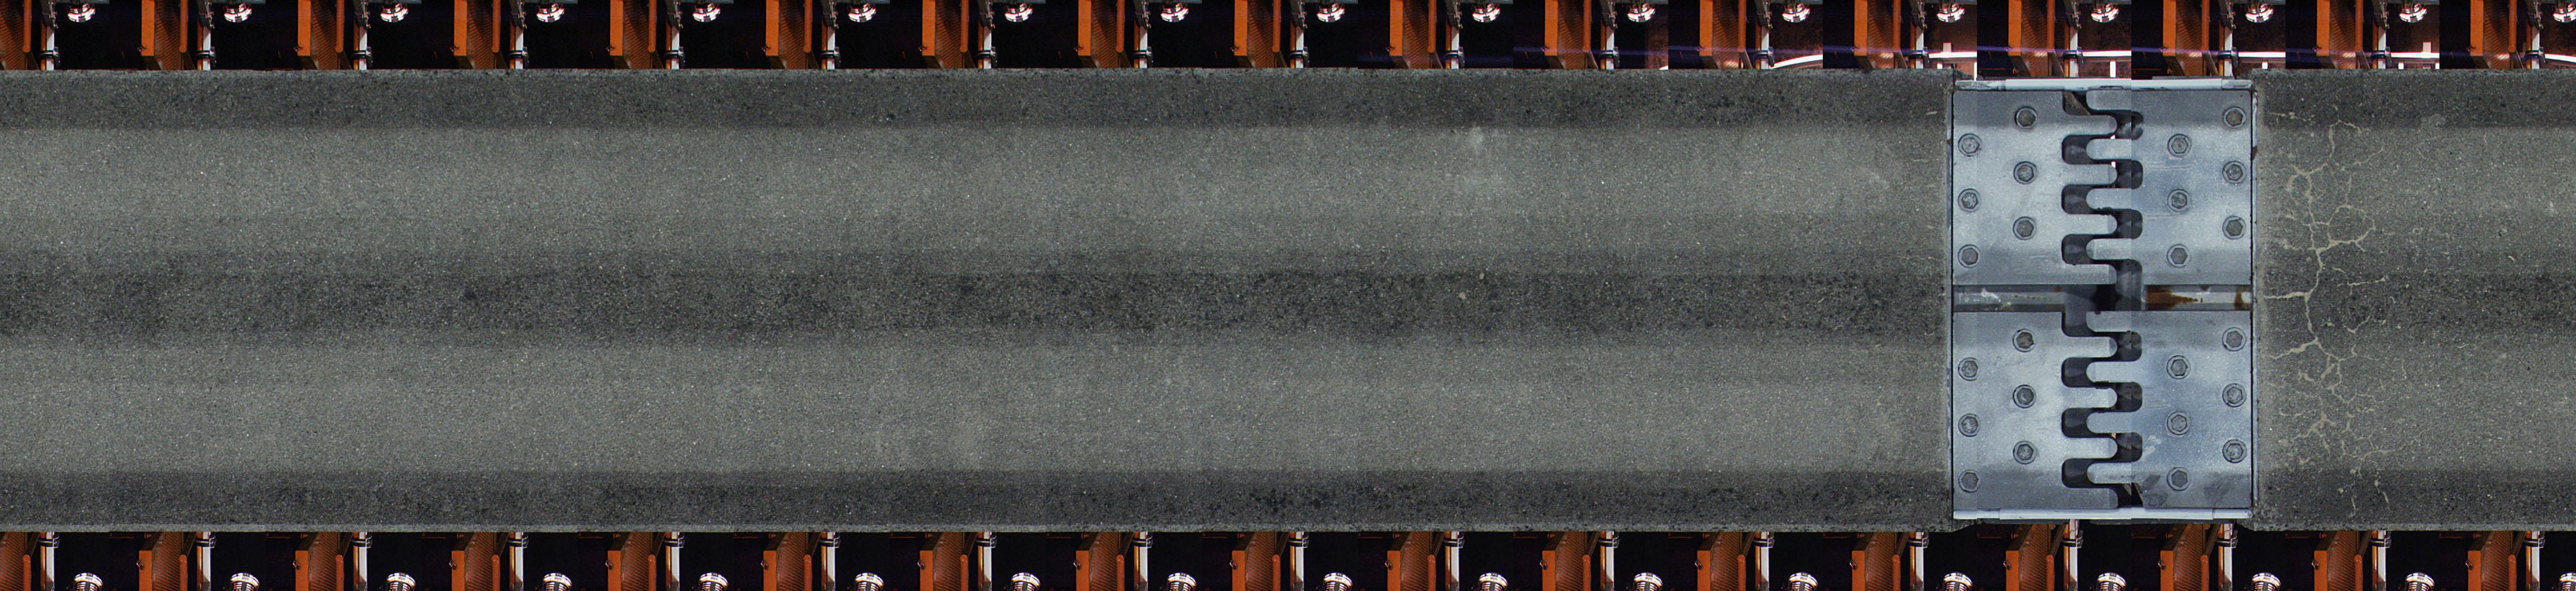concrete: (3, 74, 1950, 532), (2251, 72, 2576, 530)
